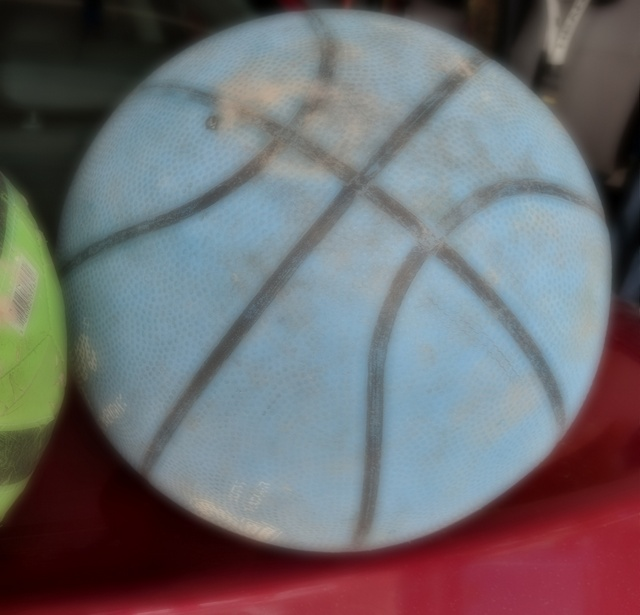ball: (57, 7, 620, 561)
